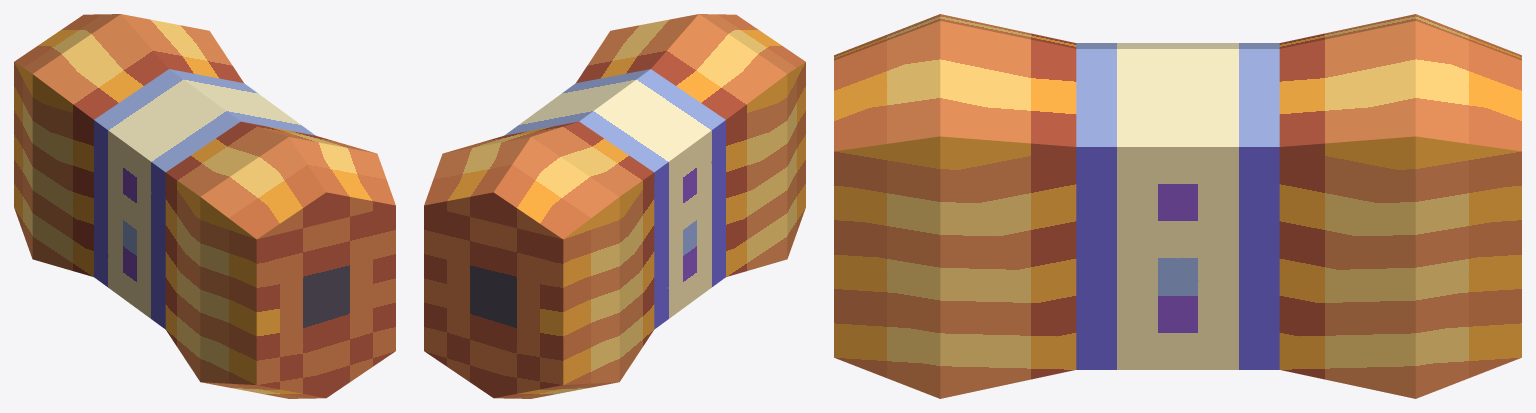
File: yarn2.fbx
3 views of the same model, side by side, from view 1: azimuth 30°, elevation 25°; view 2: azimuth 150°, elevation 25°; view 3: azimuth 270°, elevation 25° (orthographic). The views are drawn at different scales.
Parts seen in each view (by area): view 1: Yarn2; view 2: Yarn2; view 3: Yarn2.
Boxes of the visible parts, x1=… form: Yarn2: x1=14, y1=14, x2=395, y2=398; Yarn2: x1=424, y1=14, x2=805, y2=398; Yarn2: x1=834, y1=14, x2=1521, y2=398.
Bounding box in the file's own units: 22.27 × 31.5 × 52.87.
Materials: 1 (1 with a texture image).
